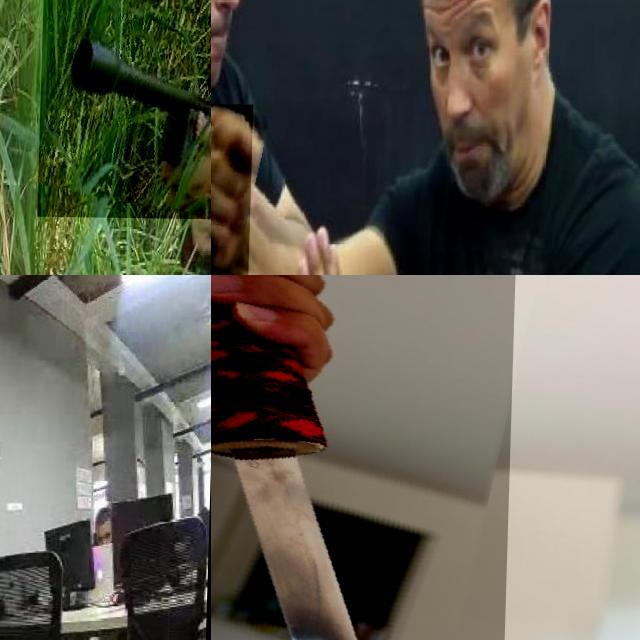-: (211, 275, 517, 640), (211, 102, 269, 275), (0, 479, 20, 568)
gun-knife-thesis - v11 Yolov5 augmented: (39, 0, 211, 218)
